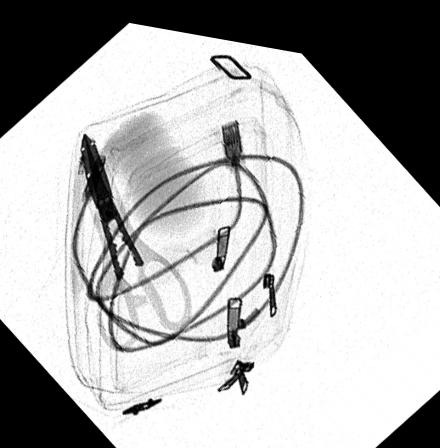Scissors: (78, 125, 195, 353)
